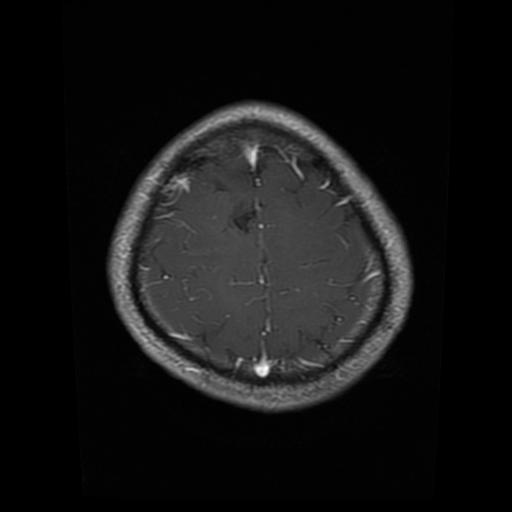Gliomia_tumour: (226, 197, 261, 231)
